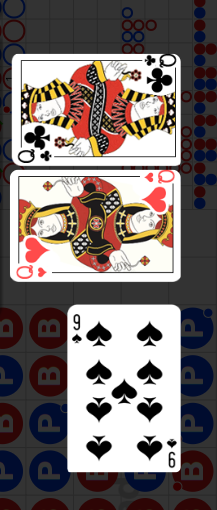9S: (70, 313, 83, 346), (165, 436, 177, 469)
QC: (134, 55, 181, 99), (14, 122, 60, 166)
